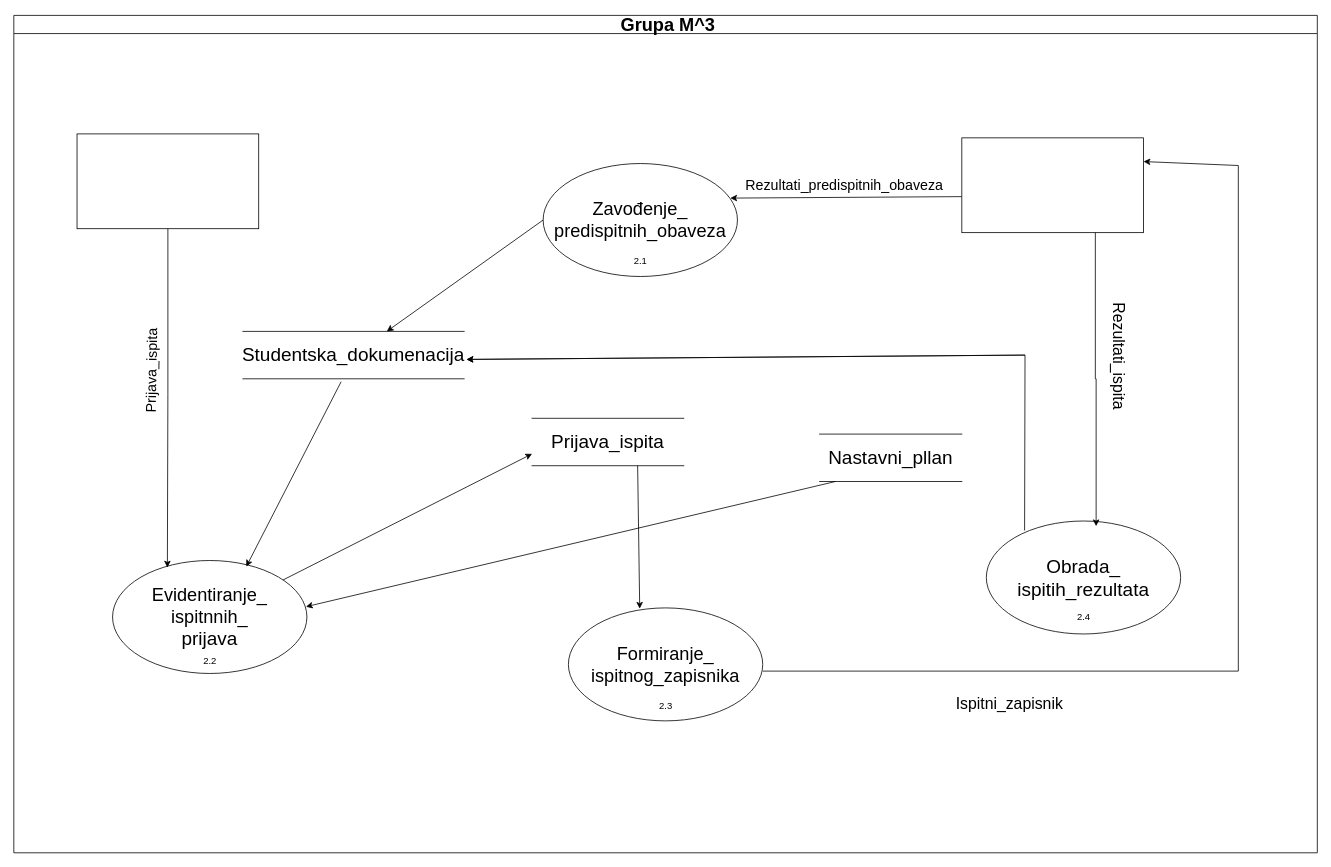
This 1331x867 diagram has some shape labels left out. The shapes that lost their labels are listed below. From the top down, each one's centre as x and y in pixels, then its label:
(x=167, y=181): Student
(x=1052, y=185): Profesor
